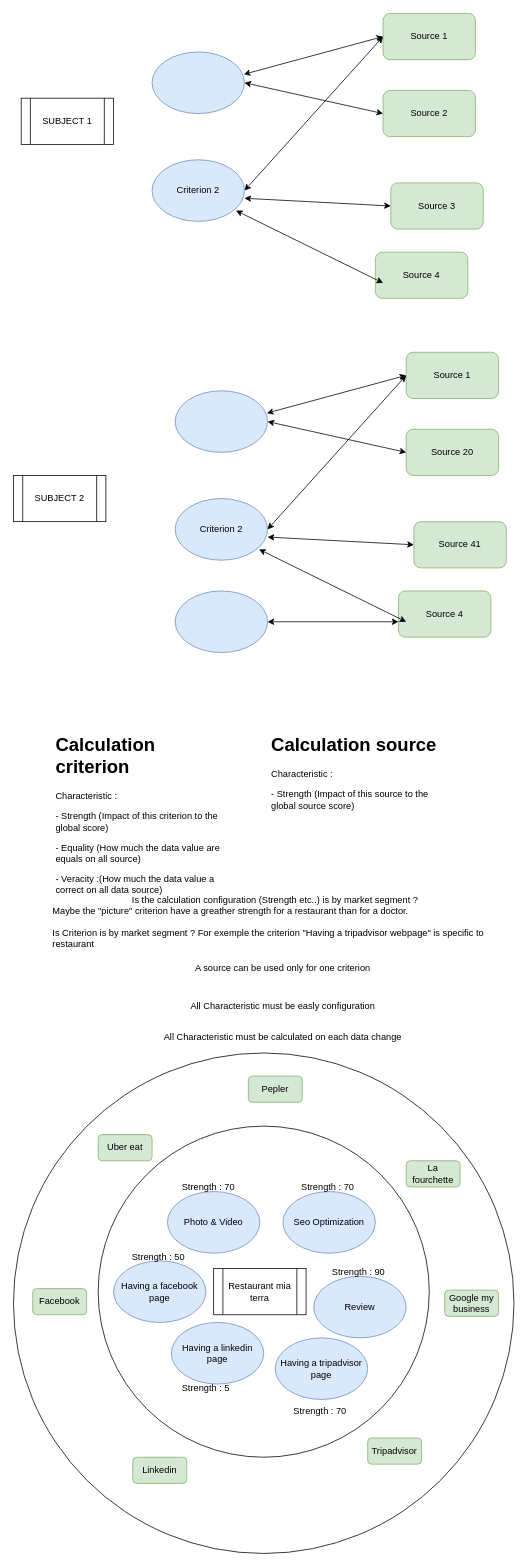
Some shapes in this 527 by 1567 pixel diagram are drawn without their labels. The shapes that lost their labels are listed below. From the top down, each one's centre as x and y in pixels, then its label:
At point (197, 82): "Criterion 1".
At point (221, 421): "Criterion 5".
At point (221, 621): "Criterion 4".
